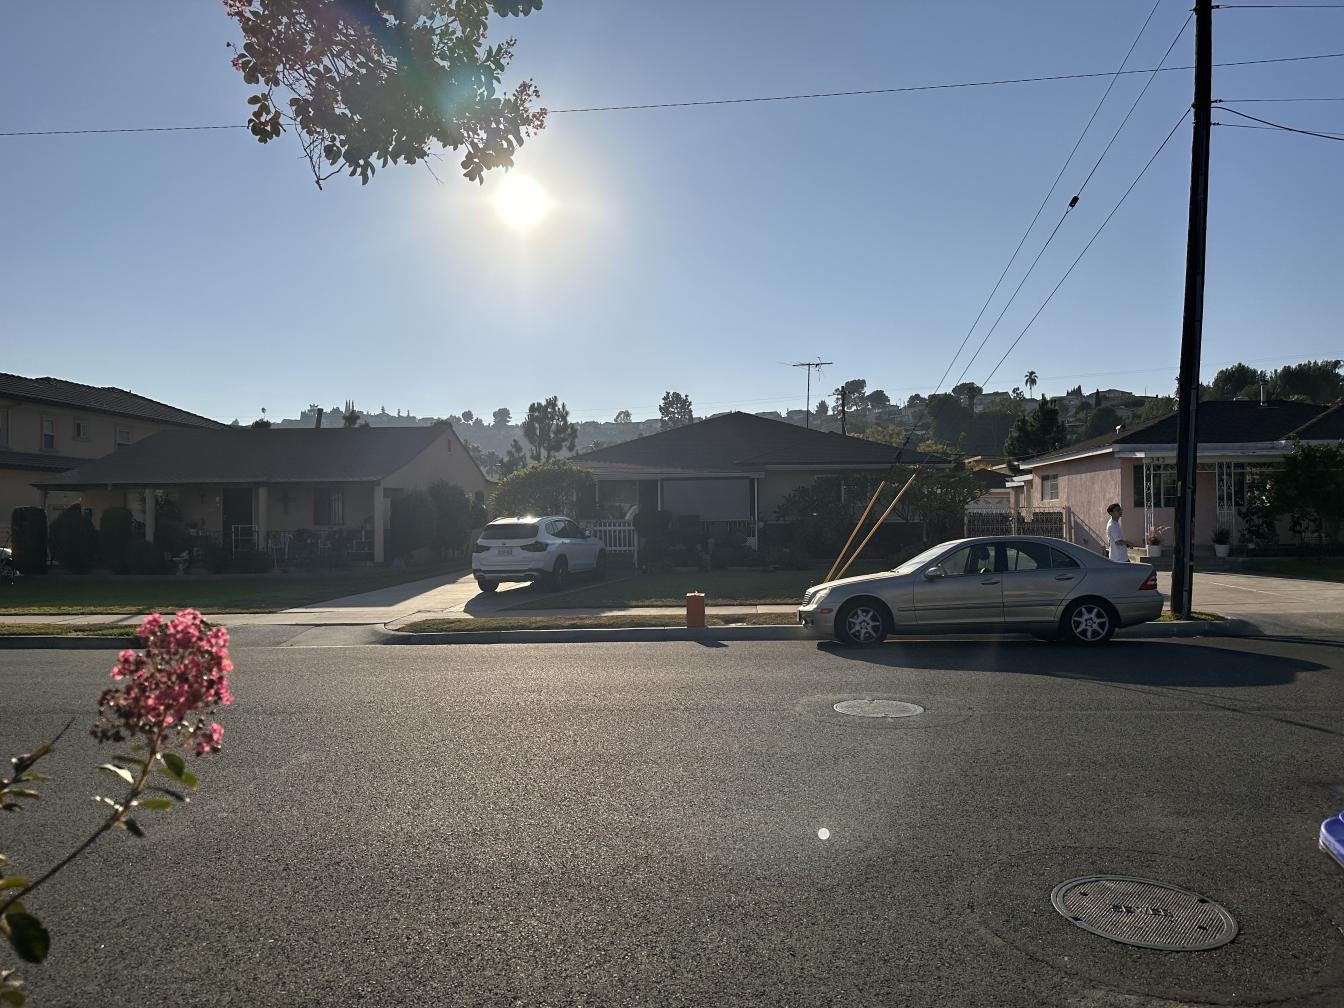curbs-laRr: (411, 625, 685, 647), (2, 632, 140, 650), (689, 625, 804, 644)
orange box: (687, 594, 705, 626)
